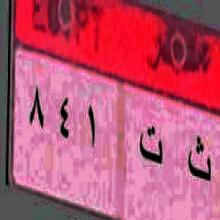1: (85, 93, 101, 156)
4: (59, 90, 72, 149)
8: (28, 80, 44, 140)
taa: (139, 121, 164, 173)
thaa: (185, 124, 214, 191)
